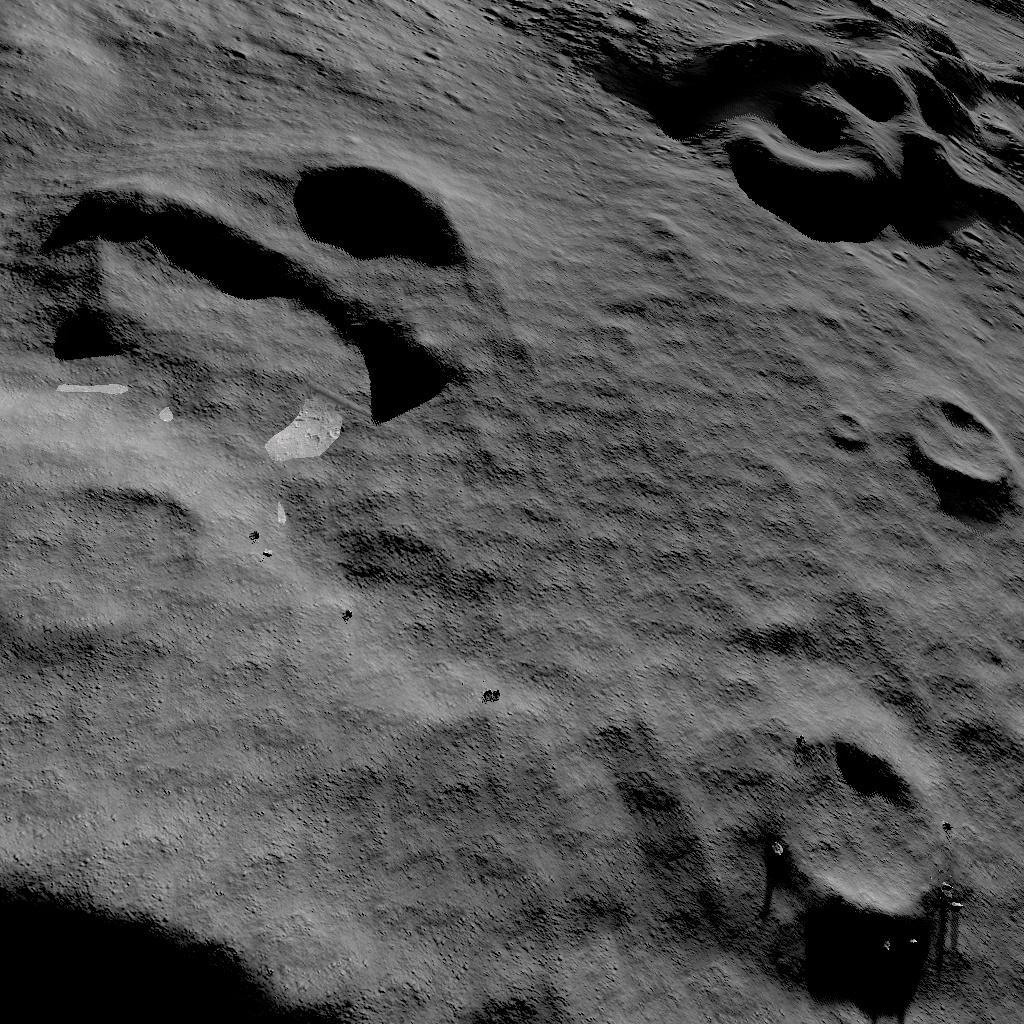Crater: (4, 132, 471, 424), (624, 0, 1024, 226), (0, 830, 377, 1024), (744, 712, 957, 940), (0, 466, 203, 654), (889, 364, 1017, 500), (826, 396, 863, 452)
Plan surface: (506, 243, 791, 648), (411, 696, 697, 1024)
